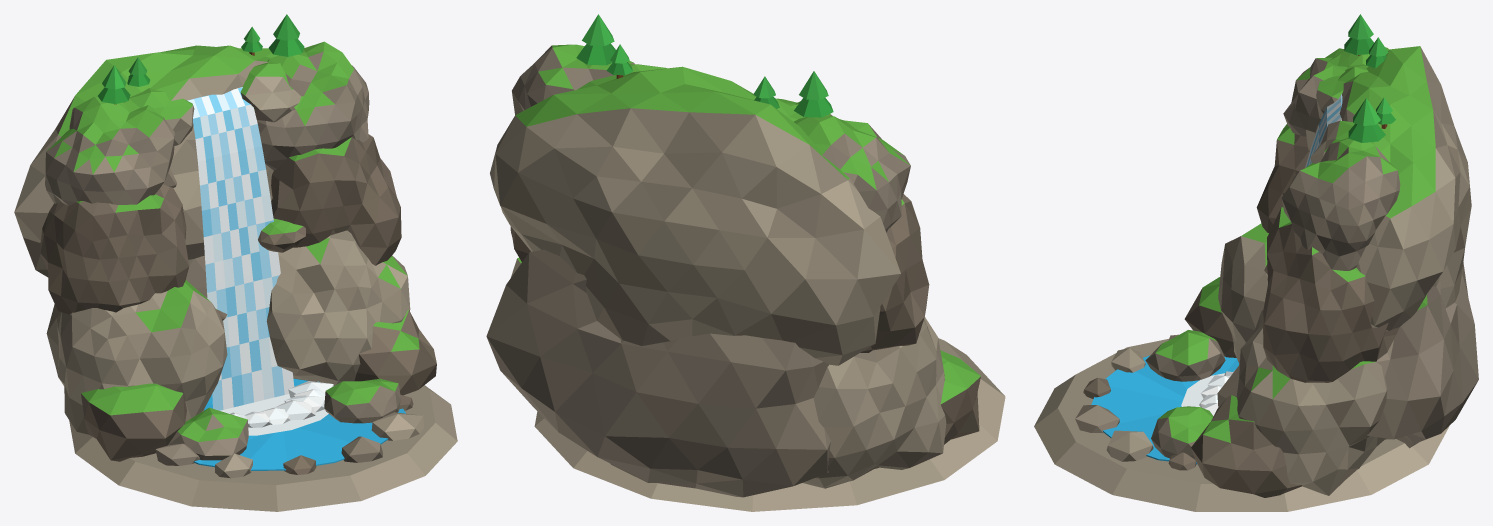
Rendered from waterfall.glb.
3 views of the same model, side by side, from view 1: azimuth 30°, elevation 25°; view 2: azimuth 150°, elevation 25°; view 3: azimuth 270°, elevation 25° (orthographic). The views are drawn at different scales.
Parts seen in each view (by area): view 1: waterfall; view 2: waterfall; view 3: waterfall.
Part boxes in pixels (box(x1,y1,x2,y2)): waterfall: box(14, 14, 457, 511); waterfall: box(486, 14, 1005, 511); waterfall: box(1034, 14, 1478, 511).
Bounding box in the file's own units: 35.86 × 34.5 × 37.48.
Materials: 1 (1 with a texture image).
